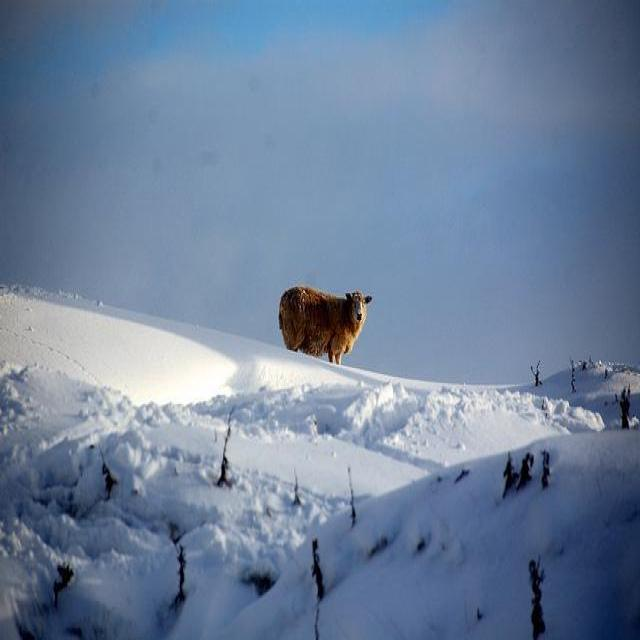Sheep: (281, 286, 374, 365)
